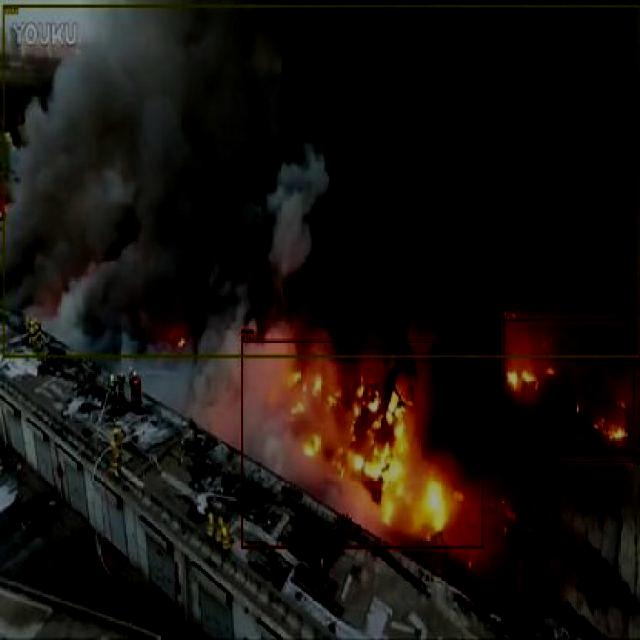fire: (242, 338, 484, 548), (502, 318, 636, 462)
smoke: (2, 5, 640, 358)
